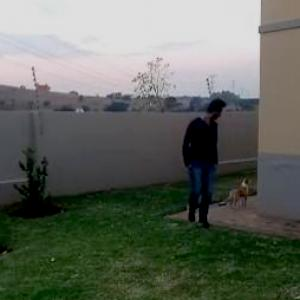follow: (183, 91, 226, 234)
